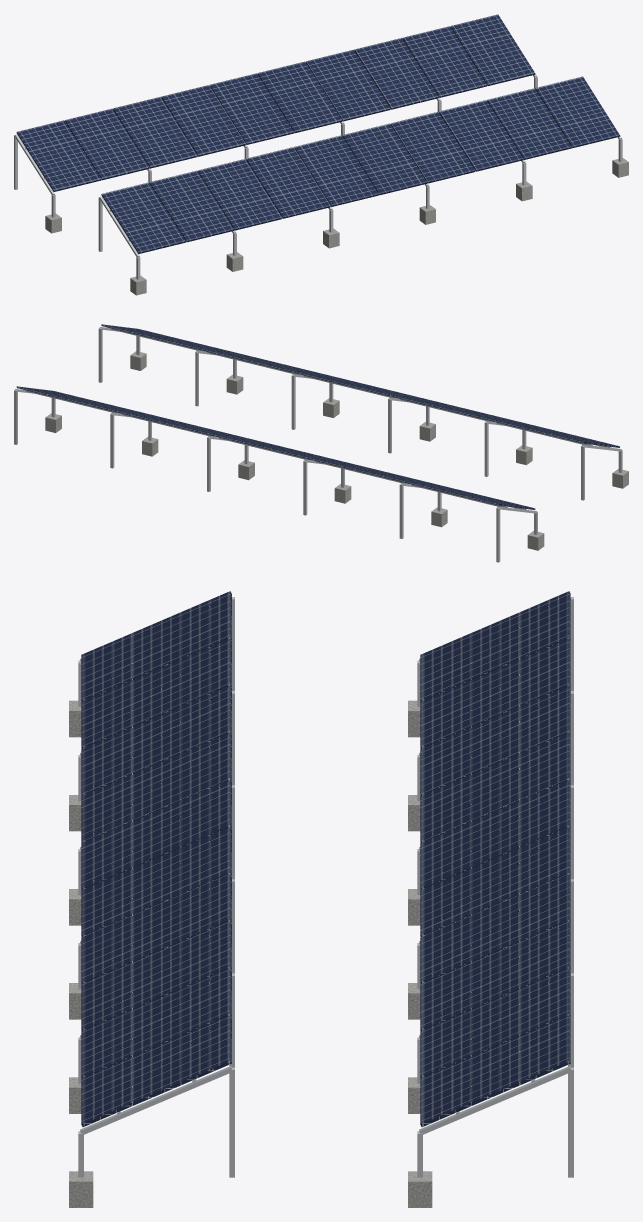
3 views of the same model, one above another, from view 1: azimuth 30°, elevation 25°; view 2: azimuth 150°, elevation 25°; view 3: azimuth 270°, elevation 25° (orthographic). The views are drawn at different scales.
Parts seen in each view (by area): view 1: frameMaterial=aluminium;lowEdgeHeight=0.5;material=solar_pv; (×3); view 2: frameMaterial=aluminium;lowEdgeHeight=0.5;material=solar_pv; (×3); view 3: frameMaterial=aluminium;lowEdgeHeight=0.5;material=solar_pv; (×3).
Boxes of the visible parts, box(x1,y1,x2,y2) form: frameMaterial=aluminium;lowEdgeHeight=0.5;material=solar_pv; (×3): box(14, 14, 628, 295); frameMaterial=aluminium;lowEdgeHeight=0.5;material=solar_pv; (×3): box(14, 324, 628, 562); frameMaterial=aluminium;lowEdgeHeight=0.5;material=solar_pv; (×3): box(69, 591, 573, 1207).
Size of the model in its own units: 11.75 by 5.21 by 1.61.
3 materials, 2 textured.
